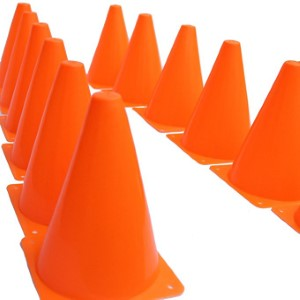traffic cone: (19, 90, 183, 300), (6, 60, 143, 239), (209, 61, 300, 209), (165, 40, 259, 166), (1, 37, 80, 179), (131, 24, 212, 134), (100, 13, 172, 107), (1, 21, 57, 140), (1, 11, 47, 113), (85, 4, 138, 90), (1, 1, 38, 90)
